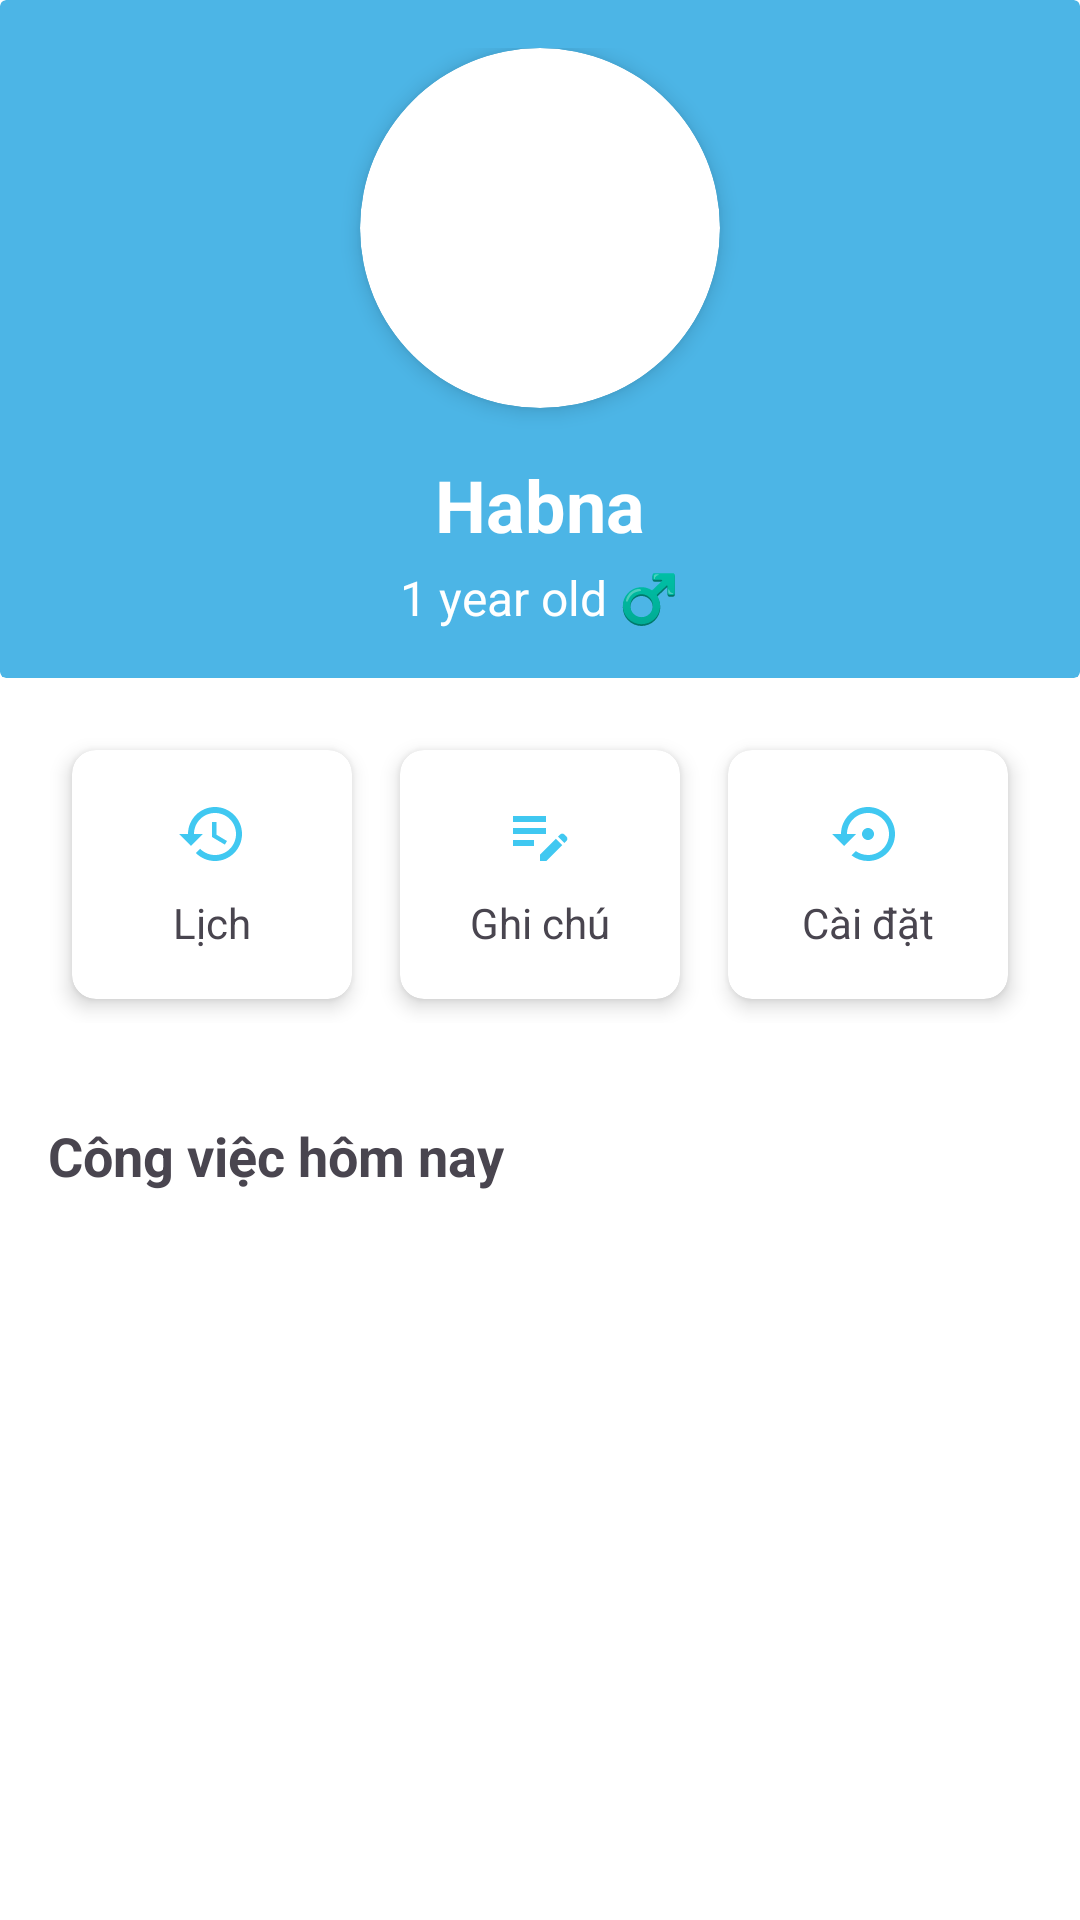

Screen size 1080*1920. Icon name, then its center in pixels as (x=x, y=y):
edit note: (x=540, y=838)
history: (x=210, y=834)
settings backup restore: (x=863, y=834)
